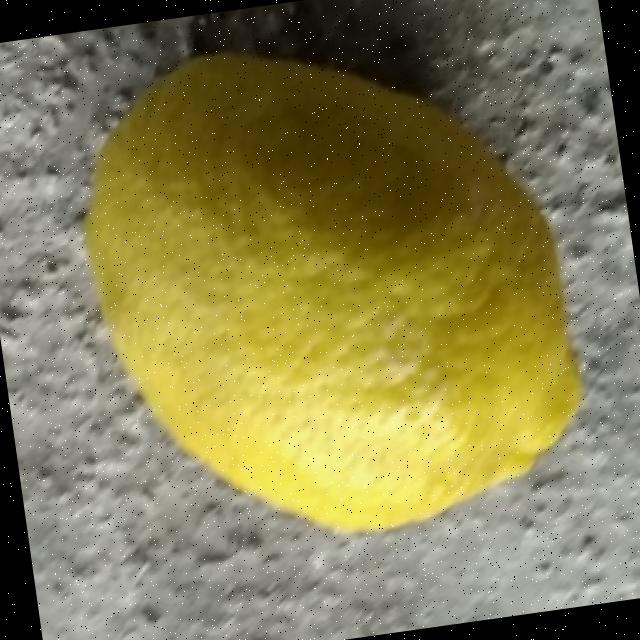Lemon: (58, 5, 596, 568)
